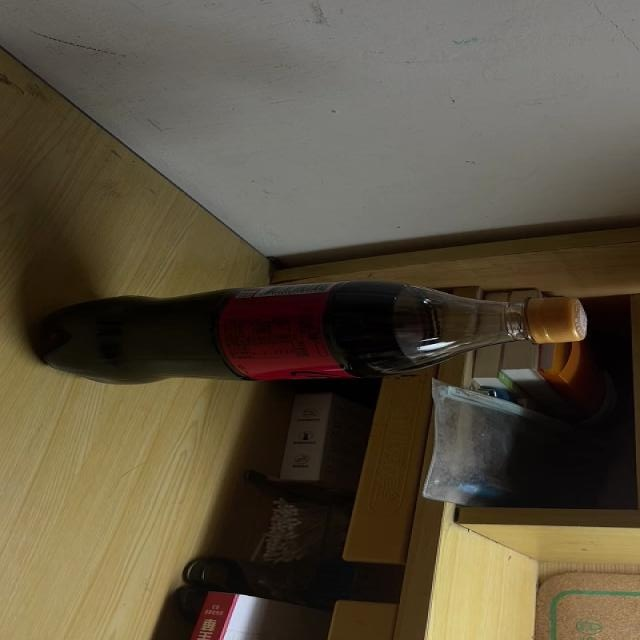Coca-Cola: (35, 277, 589, 388)
